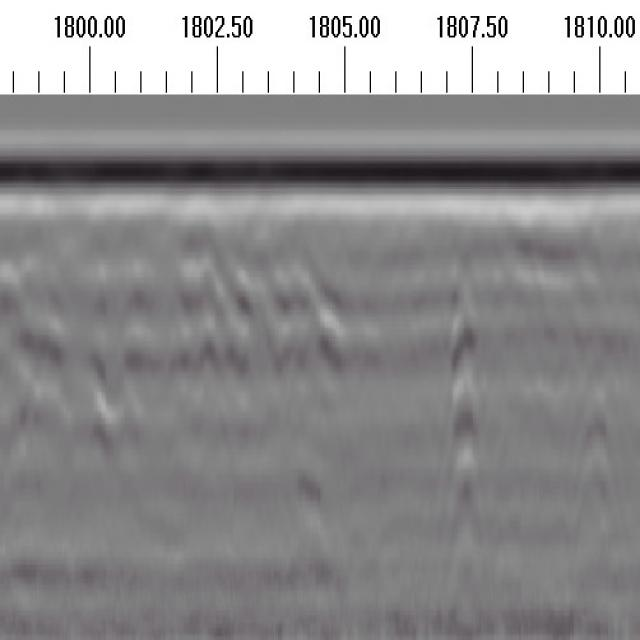crack: (453, 270, 481, 607)
loose: (11, 252, 340, 422)
